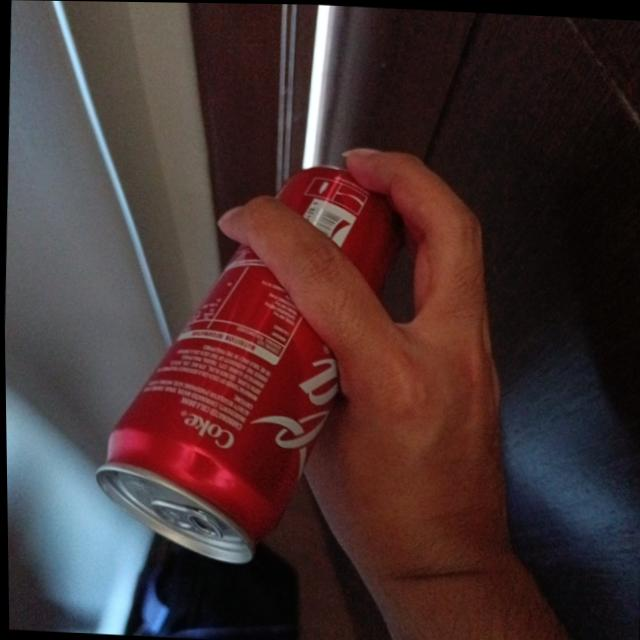coke: (86, 154, 413, 579)
